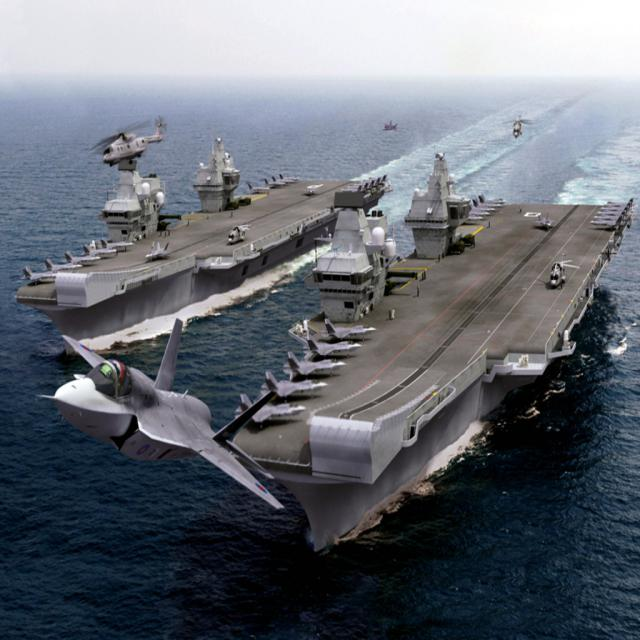navalvessels: (69, 160, 624, 563), (22, 114, 361, 371)
